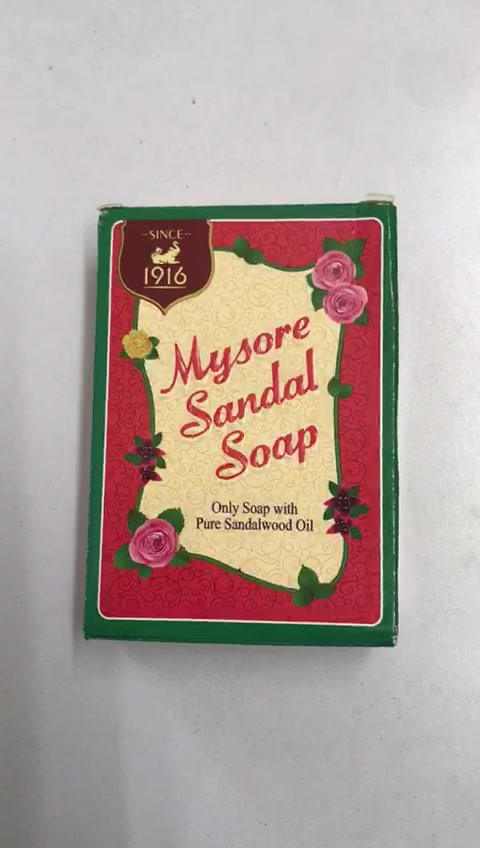mysoresandalsoap: (95, 201, 399, 643)
